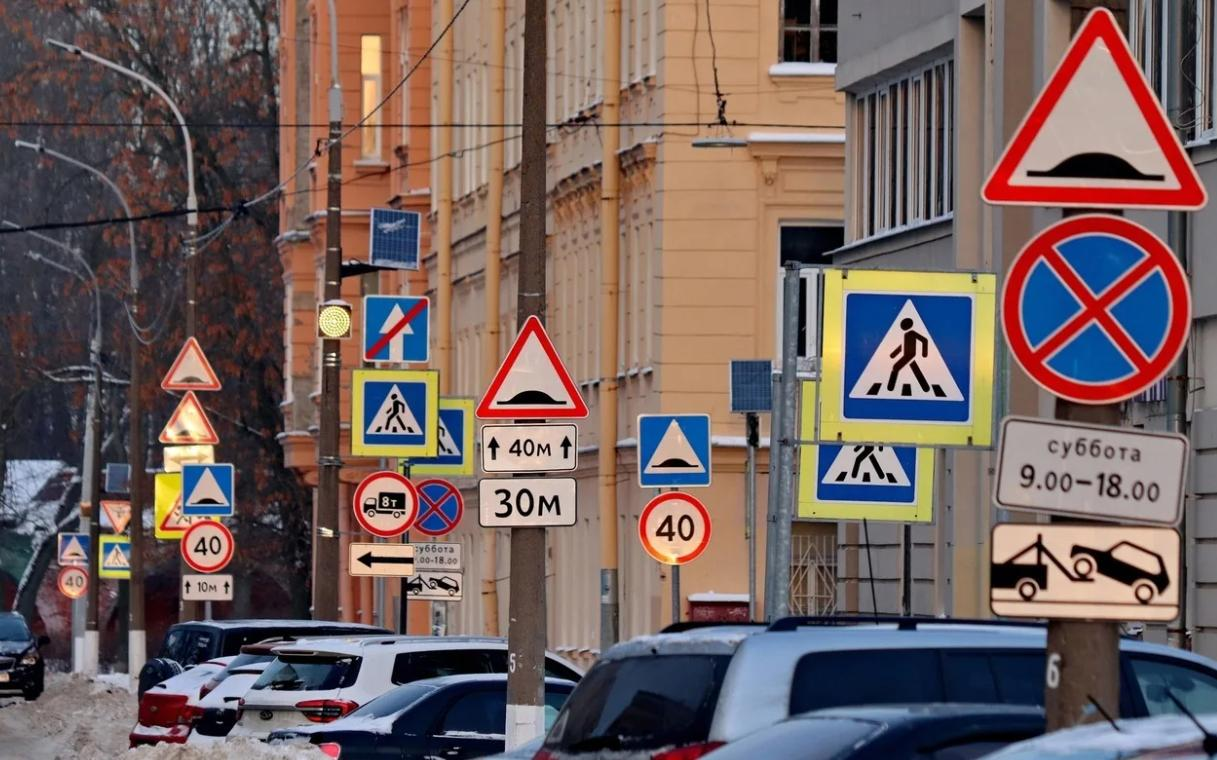obstructed_road_sign: (795, 381, 935, 525), (398, 398, 475, 476), (154, 474, 221, 539), (412, 478, 463, 536), (406, 572, 461, 600), (164, 445, 216, 472), (100, 501, 131, 534)
road_sign: (979, 7, 1208, 209), (1002, 215, 1192, 403), (821, 268, 995, 442), (996, 525, 1179, 620), (476, 312, 590, 417), (351, 370, 438, 457), (638, 492, 712, 564), (638, 414, 710, 488), (480, 478, 576, 525), (363, 295, 429, 363), (353, 471, 418, 538), (482, 425, 576, 471), (160, 335, 222, 390), (158, 390, 219, 443), (181, 520, 236, 573), (183, 464, 233, 516), (351, 544, 414, 574), (99, 535, 131, 578), (182, 573, 232, 600), (58, 533, 91, 565), (57, 566, 89, 598)
